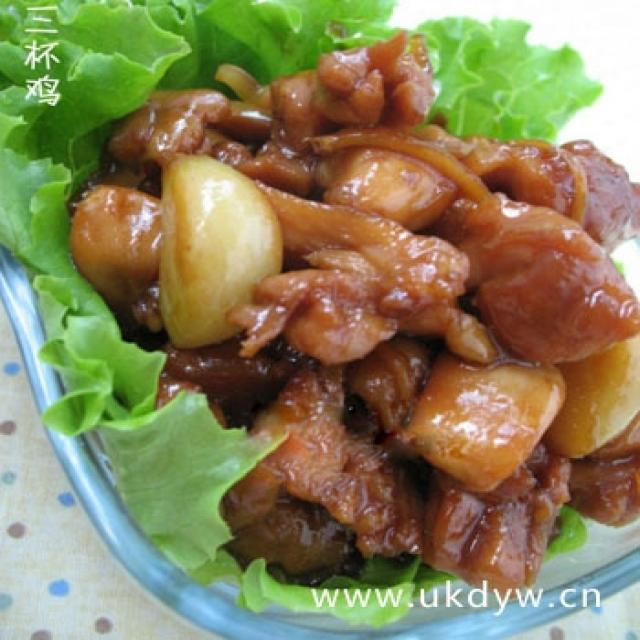鸡肉料理 含炸鸡: (57, 18, 614, 610)
